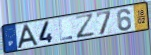4: (38, 19, 56, 45)
6: (116, 8, 132, 32)
7: (96, 9, 113, 36)
A: (16, 23, 40, 50)
L: (58, 19, 74, 42)
Z: (74, 13, 97, 41)
